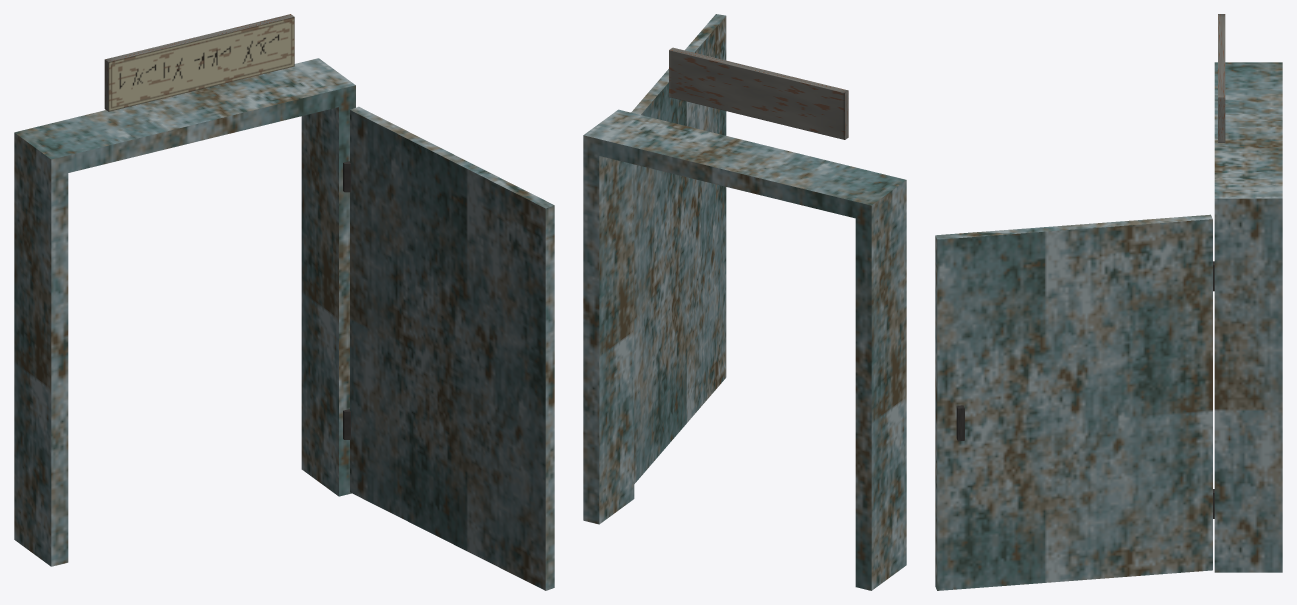
Rendered from door_frame.fbx.
3 renders of one model, left to right at view 1: azimuth 30°, elevation 25°; view 2: azimuth 150°, elevation 25°; view 3: azimuth 270°, elevation 25°, orthographic. The views are drawn at different scales.
Parts seen in each view (by area): view 1: leaf, door_frame; view 2: door_frame, leaf; view 3: leaf, door_frame.
Boxes of the visible parts, <box> form: leaf: <box>343,106,554,590</box>; door_frame: <box>14,14,355,566</box>; door_frame: <box>583,47,906,590</box>; leaf: <box>631,14,726,483</box>; leaf: <box>935,214,1214,590</box>; door_frame: <box>1214,14,1282,572</box>.
Size of the model in its own units: 2.1 by 2.76 by 1.94.
2 materials, 2 textured.
